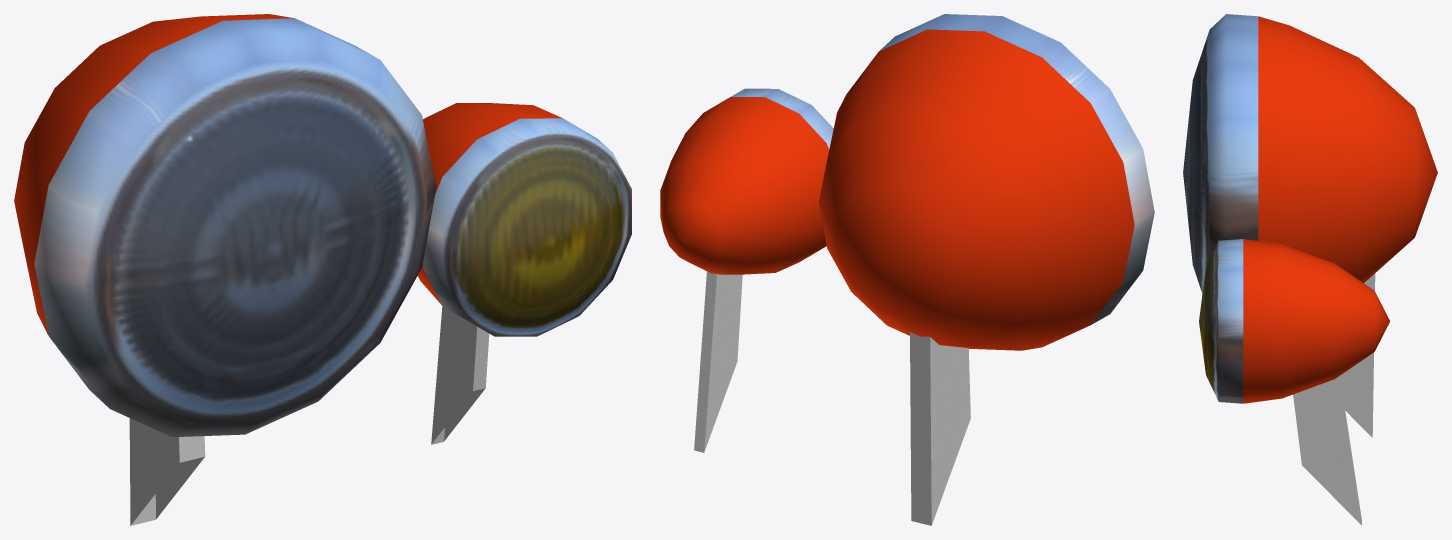
Rendered from motorbike_headlight_OFF.gltf.
3 views of the same model, side by side, from view 1: azimuth 30°, elevation 25°; view 2: azimuth 150°, elevation 25°; view 3: azimuth 270°, elevation 25° (orthographic). The views are drawn at different scales.
Visible parts, largest first — view 1: headlight2.big.OFF, headlight2.small.OFF, headlight2.big.support.OFF, headlight2.small.support.OFF; view 2: headlight2.big.OFF, headlight2.small.OFF, headlight2.big.support.OFF, headlight2.small.support.OFF; view 3: headlight2.big.OFF, headlight2.small.OFF, headlight2.small.support.OFF, headlight2.big.support.OFF.
Part boxes in pixels (bbox=[...]): headlight2.big.OFF: bbox=[14, 14, 436, 437]; headlight2.small.OFF: bbox=[417, 103, 631, 336]; headlight2.big.support.OFF: bbox=[129, 418, 205, 525]; headlight2.small.support.OFF: bbox=[431, 306, 489, 444]; headlight2.big.OFF: bbox=[819, 14, 1154, 350]; headlight2.small.OFF: bbox=[660, 88, 833, 274]; headlight2.big.support.OFF: bbox=[910, 332, 970, 525]; headlight2.small.support.OFF: bbox=[694, 271, 742, 452]; headlight2.big.OFF: bbox=[1183, 14, 1437, 293]; headlight2.small.OFF: bbox=[1199, 239, 1390, 403]; headlight2.small.support.OFF: bbox=[1293, 376, 1361, 525]; headlight2.big.support.OFF: bbox=[1340, 273, 1375, 437].
Size of the model in its own units: 0.2629 by 0.246 by 0.1403.
Materials: 4 (3 with a texture image).
